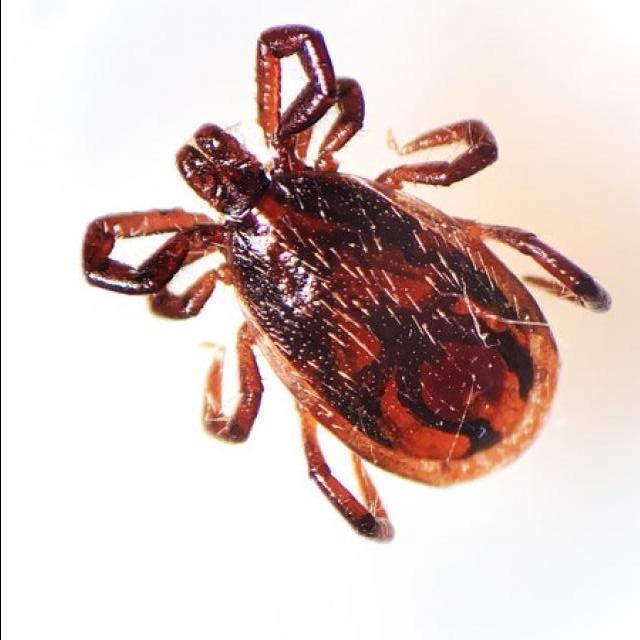Ixodes Ricinus-M: (82, 24, 610, 543)
